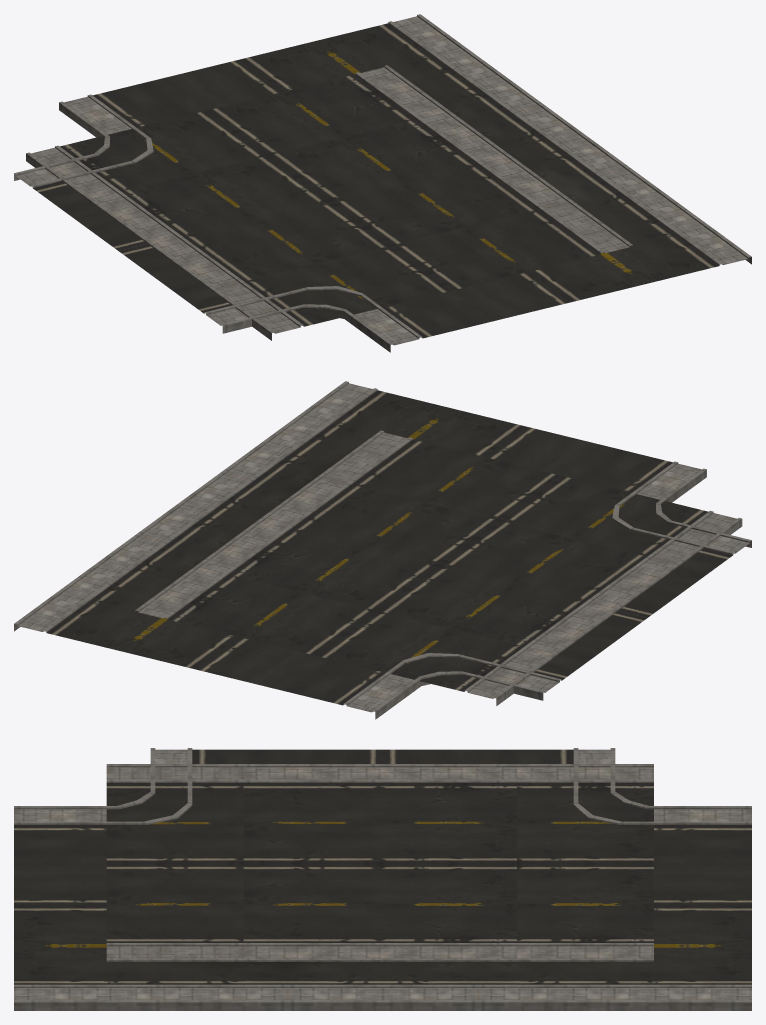
File: Roads.fbx
3 views of the same model, one above another, from view 1: azimuth 30°, elevation 25°; view 2: azimuth 150°, elevation 25°; view 3: azimuth 270°, elevation 25° (orthographic). The views are drawn at different scales.
Parts seen in each view (by area): view 1: 10_Road-Intersection-D_0_0_0_root_root, 10_Road-Streight-Double-A_0_0_0_root_root, 10_Road-Streight-Double_0_0_0_root_root; view 2: 10_Road-Intersection-D_0_0_0_root_root, 10_Road-Streight-Double-A_0_0_0_root_root, 10_Road-Streight-Double_0_0_0_root_root; view 3: 10_Road-Intersection-D_0_0_0_root_root, 10_Road-Streight-Double_0_0_0_root_root, 10_Road-Streight-Double-A_0_0_0_root_root.
Boxes of the visible parts, x1=… form: 10_Road-Intersection-D_0_0_0_root_root: x1=14, y1=14, x2=751, y2=352; 10_Road-Streight-Double-A_0_0_0_root_root: x1=87, y1=110, x2=571, y2=288; 10_Road-Streight-Double_0_0_0_root_root: x1=26, y1=65, x2=633, y2=340; 10_Road-Intersection-D_0_0_0_root_root: x1=14, y1=381, x2=751, y2=719; 10_Road-Streight-Double-A_0_0_0_root_root: x1=197, y1=475, x2=680, y2=654; 10_Road-Streight-Double_0_0_0_root_root: x1=135, y1=430, x2=742, y2=705; 10_Road-Intersection-D_0_0_0_root_root: x1=14, y1=748, x2=751, y2=1010; 10_Road-Streight-Double_0_0_0_root_root: x1=106, y1=764, x2=653, y2=961; 10_Road-Streight-Double-A_0_0_0_root_root: x1=243, y1=764, x2=516, y2=960.
Size of the model in its own units: 464 by 7.47 by 570.
